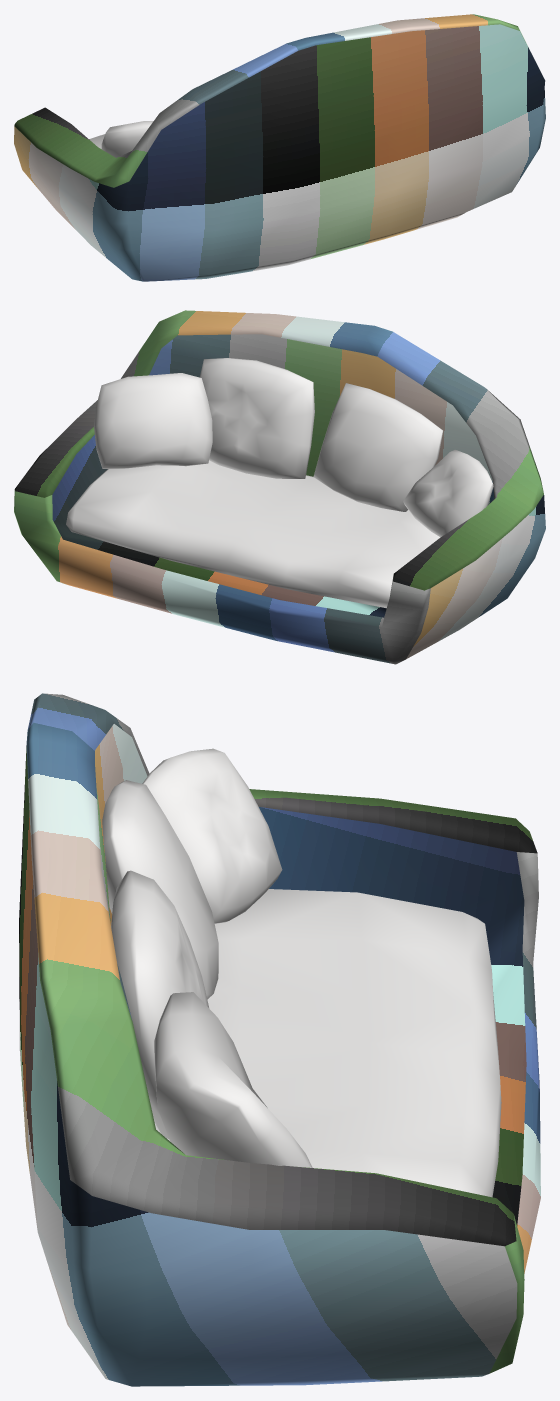
The model's file is P_StoneLoveseat.glb.
3 renders of one model, top to bottom at view 1: azimuth 30°, elevation 25°; view 2: azimuth 150°, elevation 25°; view 3: azimuth 270°, elevation 25°, orthographic. The views are drawn at different scales.
Visible parts, largest first — view 1: P_StoneLoveseat; view 2: P_StoneLoveseat; view 3: P_StoneLoveseat.
Part boxes in pixels (bbox=[...]): P_StoneLoveseat: bbox=[14, 14, 545, 281]; P_StoneLoveseat: bbox=[14, 310, 545, 664]; P_StoneLoveseat: bbox=[19, 693, 540, 1386].
Bounding box in the file's own units: 2 × 0.9801 × 1.03.
Materials: 1 (1 with a texture image).
